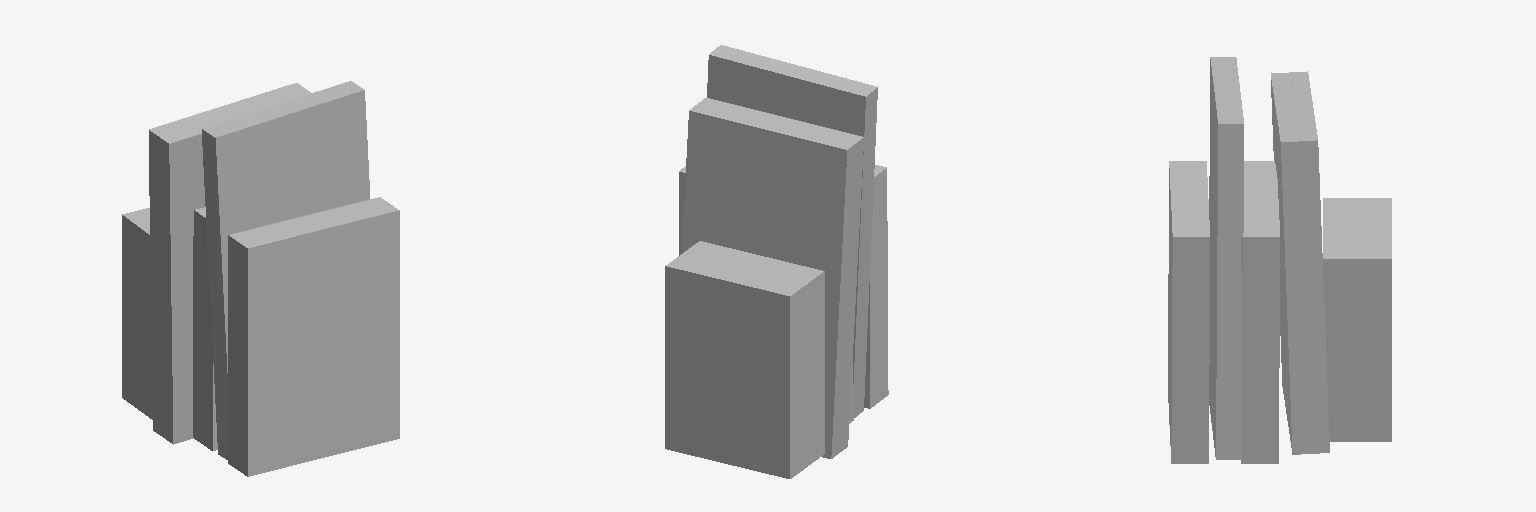
File: book_pile3.obj
3 renders of one model, left to right at view 1: azimuth 30°, elevation 25°; view 2: azimuth 150°, elevation 25°; view 3: azimuth 270°, elevation 25°, orthographic.
Parts seen in each view (by area): view 1: books:Santi_Unger_Studio:Props1 books1 Evironment_CH group1 book, books:Santi_Unger_Studio:Props1 books1 Evironment_CH books:Santi, Bookshelf books:Santi_Unger_Studio:Props1 books1 Evironment_CH p, Book Bookshelf books:Santi_Unger_Studio:Props1 books1 Evironment; view 2: books:Santi_Unger_Studio:Props1 books1 Evironment_CH books:Santi, Book Bookshelf books:Santi_Unger_Studio:Props1 books1 Evironment, books:Santi_Unger_Studio:Props1 books1 Evironment_CH group1 book, Bookshelf books:Santi_Unger_Studio:Props1 books1 Evironment_CH p, Bookshelf books:Santi_Unger_Studio:Props1 books1 Evironment_CH B, polySurface7 Book Bookshelf books:Santi_Unger_Studio:Props1 book; view 3: books:Santi_Unger_Studio:Props1 books1 Evironment_CH group1 book, books:Santi_Unger_Studio:Props1 books1 Evironment_CH books:Santi, Bookshelf books:Santi_Unger_Studio:Props1 books1 Evironment_CH B, polySurface7 Book Bookshelf books:Santi_Unger_Studio:Props1 book, Bookshelf books:Santi_Unger_Studio:Props1 books1 Evironment_CH p, Book Bookshelf books:Santi_Unger_Studio:Props1 books1 Evironment.
Boxes of the visible parts, x1,y1,x2,y2 form: books:Santi_Unger_Studio:Props1 books1 Evironment_CH group1 book: [193, 81, 399, 476]; books:Santi_Unger_Studio:Props1 books1 Evironment_CH books:Santi: [149, 83, 310, 444]; Bookshelf books:Santi_Unger_Studio:Props1 books1 Evironment_CH p: [136, 222, 152, 419]; Book Bookshelf books:Santi_Unger_Studio:Props1 books1 Evironment: [122, 208, 149, 407]; books:Santi_Unger_Studio:Props1 books1 Evironment_CH books:Santi: [682, 98, 863, 458]; Book Bookshelf books:Santi_Unger_Studio:Props1 books1 Evironment: [665, 256, 803, 478]; books:Santi_Unger_Studio:Props1 books1 Evironment_CH group1 book: [679, 45, 888, 423]; Bookshelf books:Santi_Unger_Studio:Props1 books1 Evironment_CH p: [680, 241, 824, 468]; Bookshelf books:Santi_Unger_Studio:Props1 books1 Evironment_CH B: [681, 242, 803, 279]; polySurface7 Book Bookshelf books:Santi_Unger_Studio:Props1 book: [668, 257, 784, 290]; books:Santi_Unger_Studio:Props1 books1 Evironment_CH group1 book: [1168, 57, 1279, 463]; books:Santi_Unger_Studio:Props1 books1 Evironment_CH books:Santi: [1271, 71, 1329, 454]; Bookshelf books:Santi_Unger_Studio:Props1 books1 Evironment_CH B: [1327, 207, 1360, 441]; polySurface7 Book Bookshelf books:Santi_Unger_Studio:Props1 book: [1366, 207, 1389, 441]; Bookshelf books:Santi_Unger_Studio:Props1 books1 Evironment_CH p: [1323, 198, 1363, 441]; Book Bookshelf books:Santi_Unger_Studio:Props1 books1 Evironment: [1363, 198, 1391, 441].
Bounding box in the file's own units: 5.91 × 10.26 × 6.15.